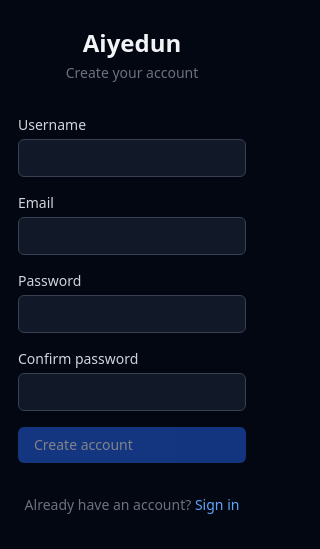
Scenario: RegisterPage › shows error when registration fails
The width and height of the screenshot is (320, 549).
Type "charlie" into the field labelled "Username" at coordinates (132, 158), box [18, 139, 246, 177]
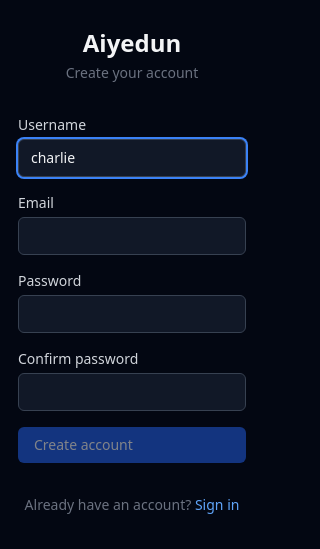
Type "c@c.com" into the field labelled "Email" at coordinates (132, 236), box [18, 217, 246, 255]
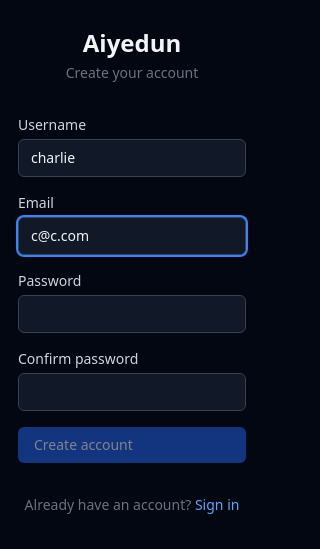
Type "Password1" into the password field labelled "Password" at coordinates (132, 314), box [18, 295, 246, 333]
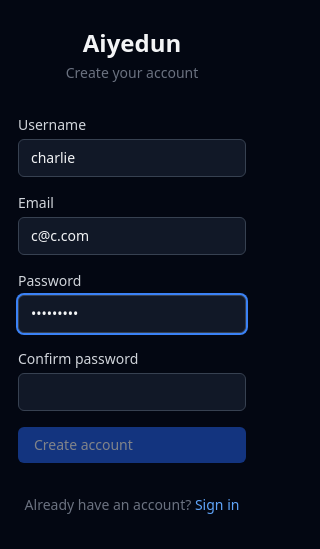
Type "Password1" into the password field labelled "Confirm password" at coordinates (132, 392), box [18, 373, 246, 411]
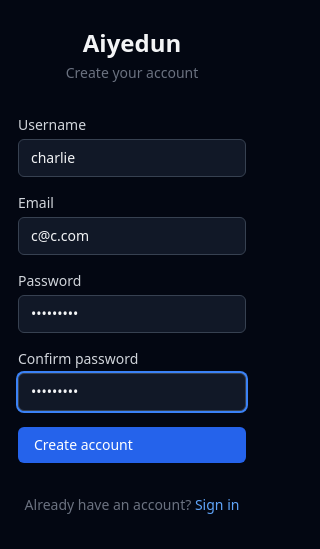
Click the button "Create account" at coordinates (132, 445), box [18, 427, 246, 463]
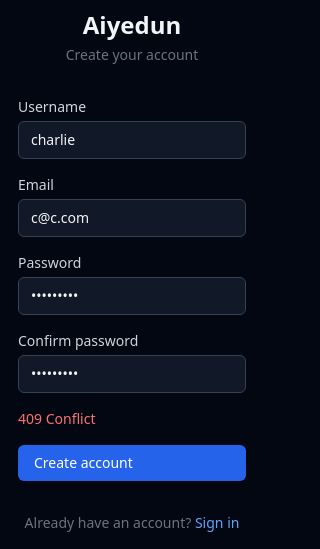
Check: the text "409 Conflict" is shown, box [18, 409, 96, 428]
